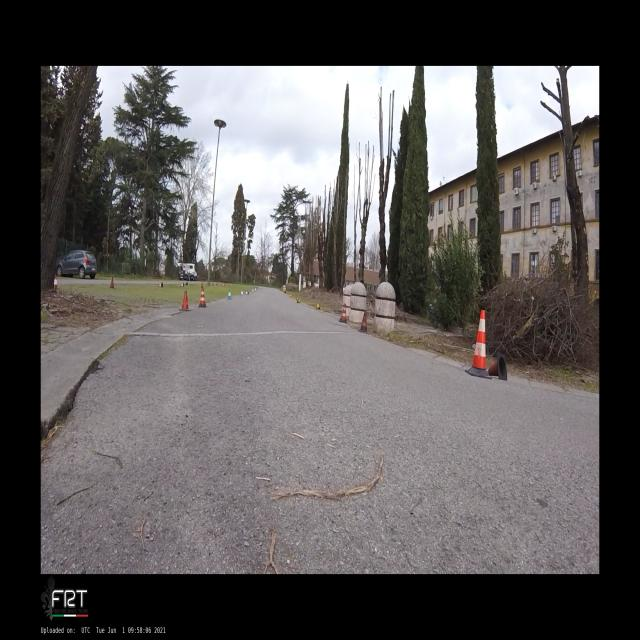blue_cone: (227, 289, 232, 300), (245, 291, 249, 295), (241, 290, 243, 296)
large_orange_cone: (465, 310, 492, 379), (358, 311, 370, 334), (198, 288, 207, 308), (339, 304, 347, 324)
orange_cone: (54, 275, 58, 288), (158, 282, 163, 288), (180, 282, 184, 287)
unknown_cone: (486, 352, 507, 380), (179, 290, 191, 310), (110, 276, 116, 288), (200, 282, 203, 288), (185, 282, 188, 286)
yellow_cone: (316, 303, 322, 310), (296, 299, 300, 303), (296, 297, 298, 301)
